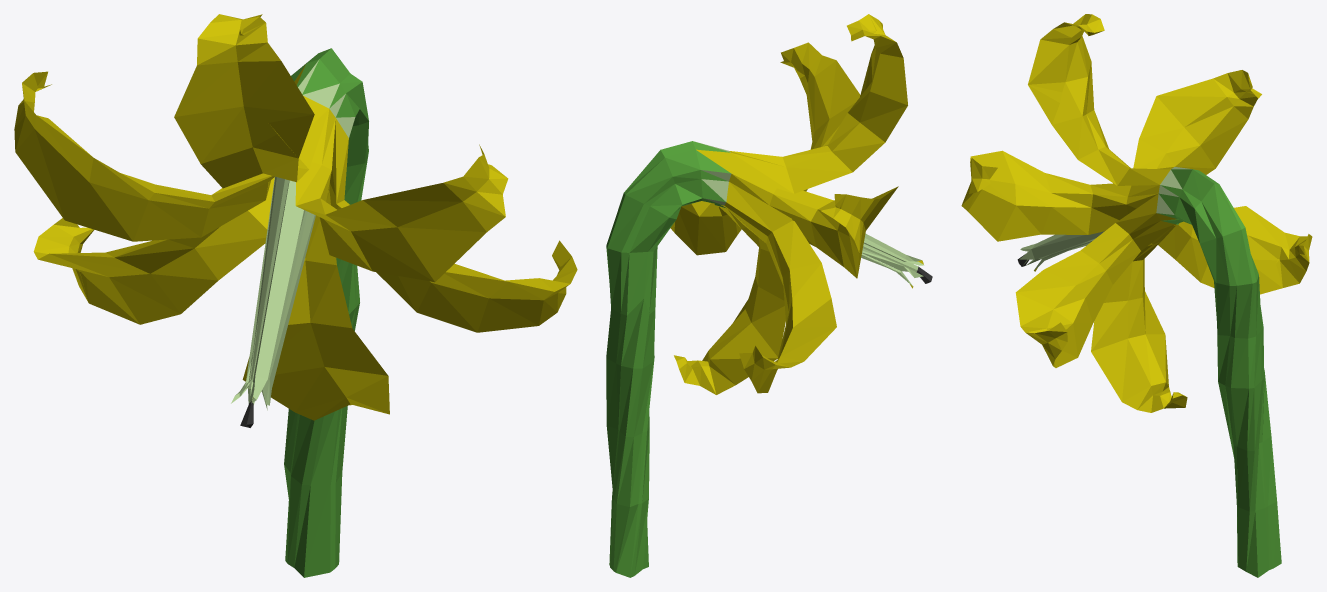
Rendered from stm_env_Lily-002.fbx.
The picture shows the model from 3 angles, left to right: view 1: azimuth 30°, elevation 25°; view 2: azimuth 150°, elevation 25°; view 3: azimuth 270°, elevation 25°; orthographic projection. The views are drawn at different scales.
Visible parts, largest first — view 1: Lily_002; view 2: Lily_002; view 3: Lily_002.
Boxes of the visible parts, left/top/right/bottom form: Lily_002: left=14, top=14, right=577, bottom=577; Lily_002: left=606, top=14, right=932, bottom=577; Lily_002: left=961, top=14, right=1312, bottom=577.
Bounding box in the file's own units: 287 × 448 × 295.
